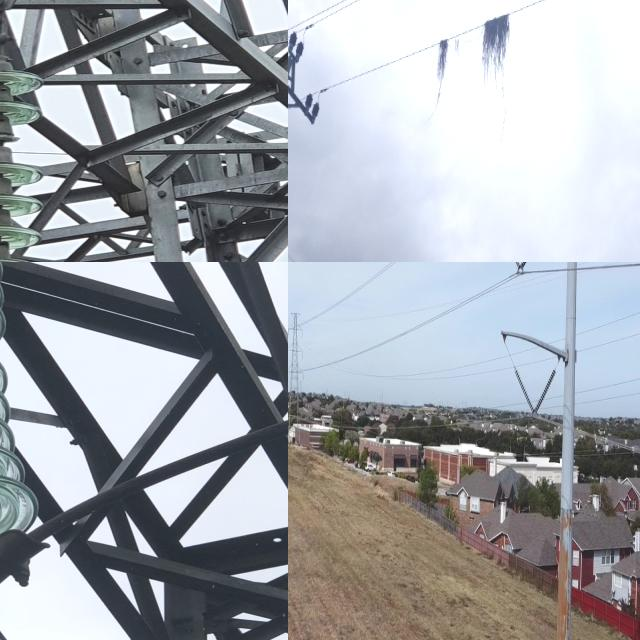杆塔: (288, 302, 308, 442)
植被遮挡: (479, 5, 513, 142), (425, 33, 451, 121)
正常绝缘子: (0, 49, 56, 262), (522, 360, 564, 437), (507, 355, 543, 425), (511, 262, 533, 288), (512, 262, 529, 282), (288, 31, 299, 50), (304, 92, 314, 111), (295, 41, 305, 58), (311, 102, 319, 118)
绝缘子破损: (0, 124, 26, 157)
